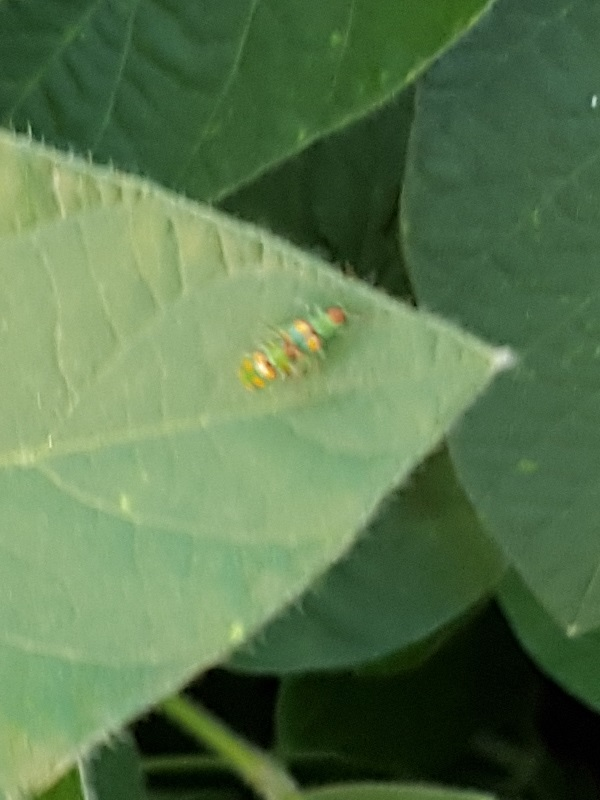Diabrotica_speciosa: (216, 325, 294, 407), (288, 297, 361, 372)
